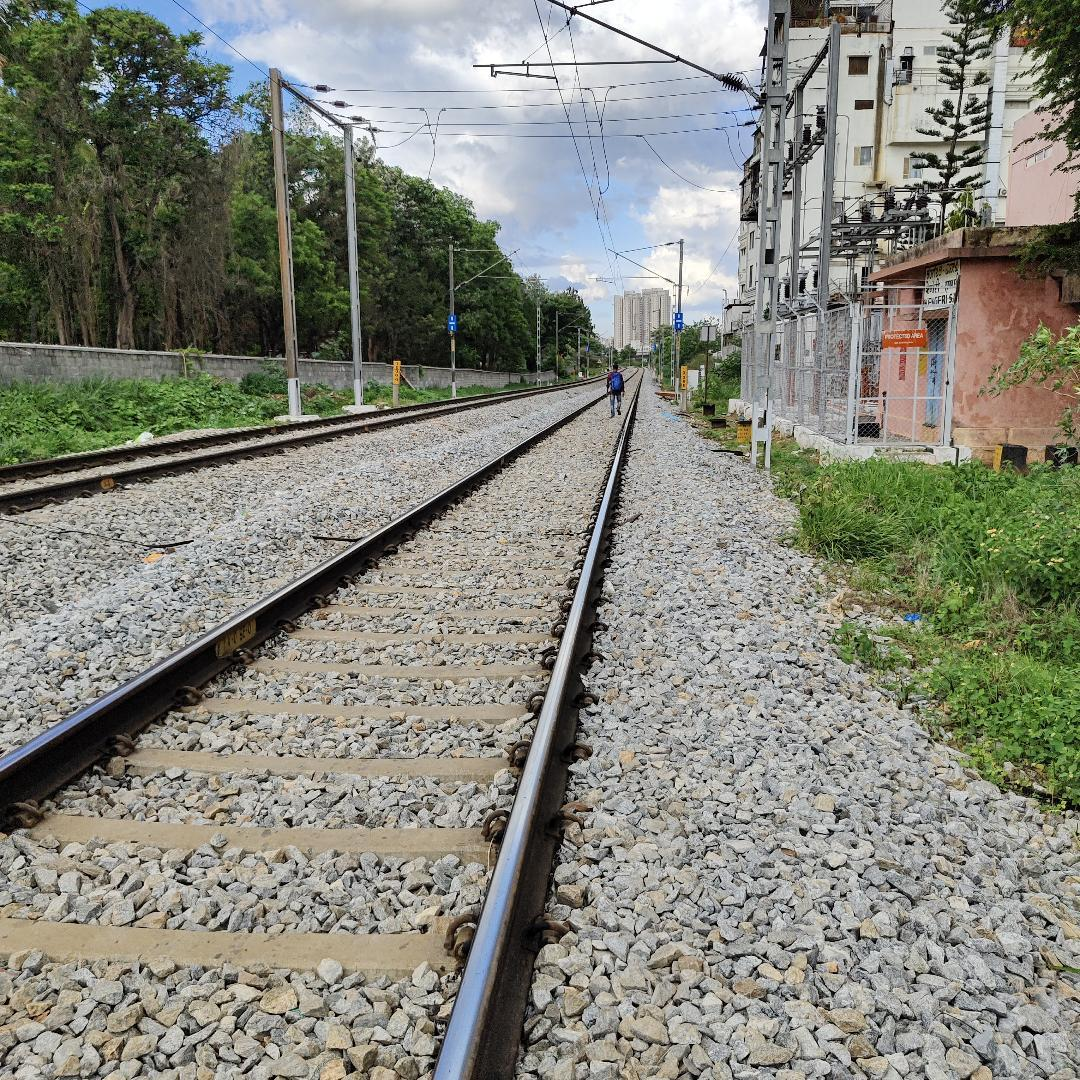standing: (598, 357, 630, 423)
